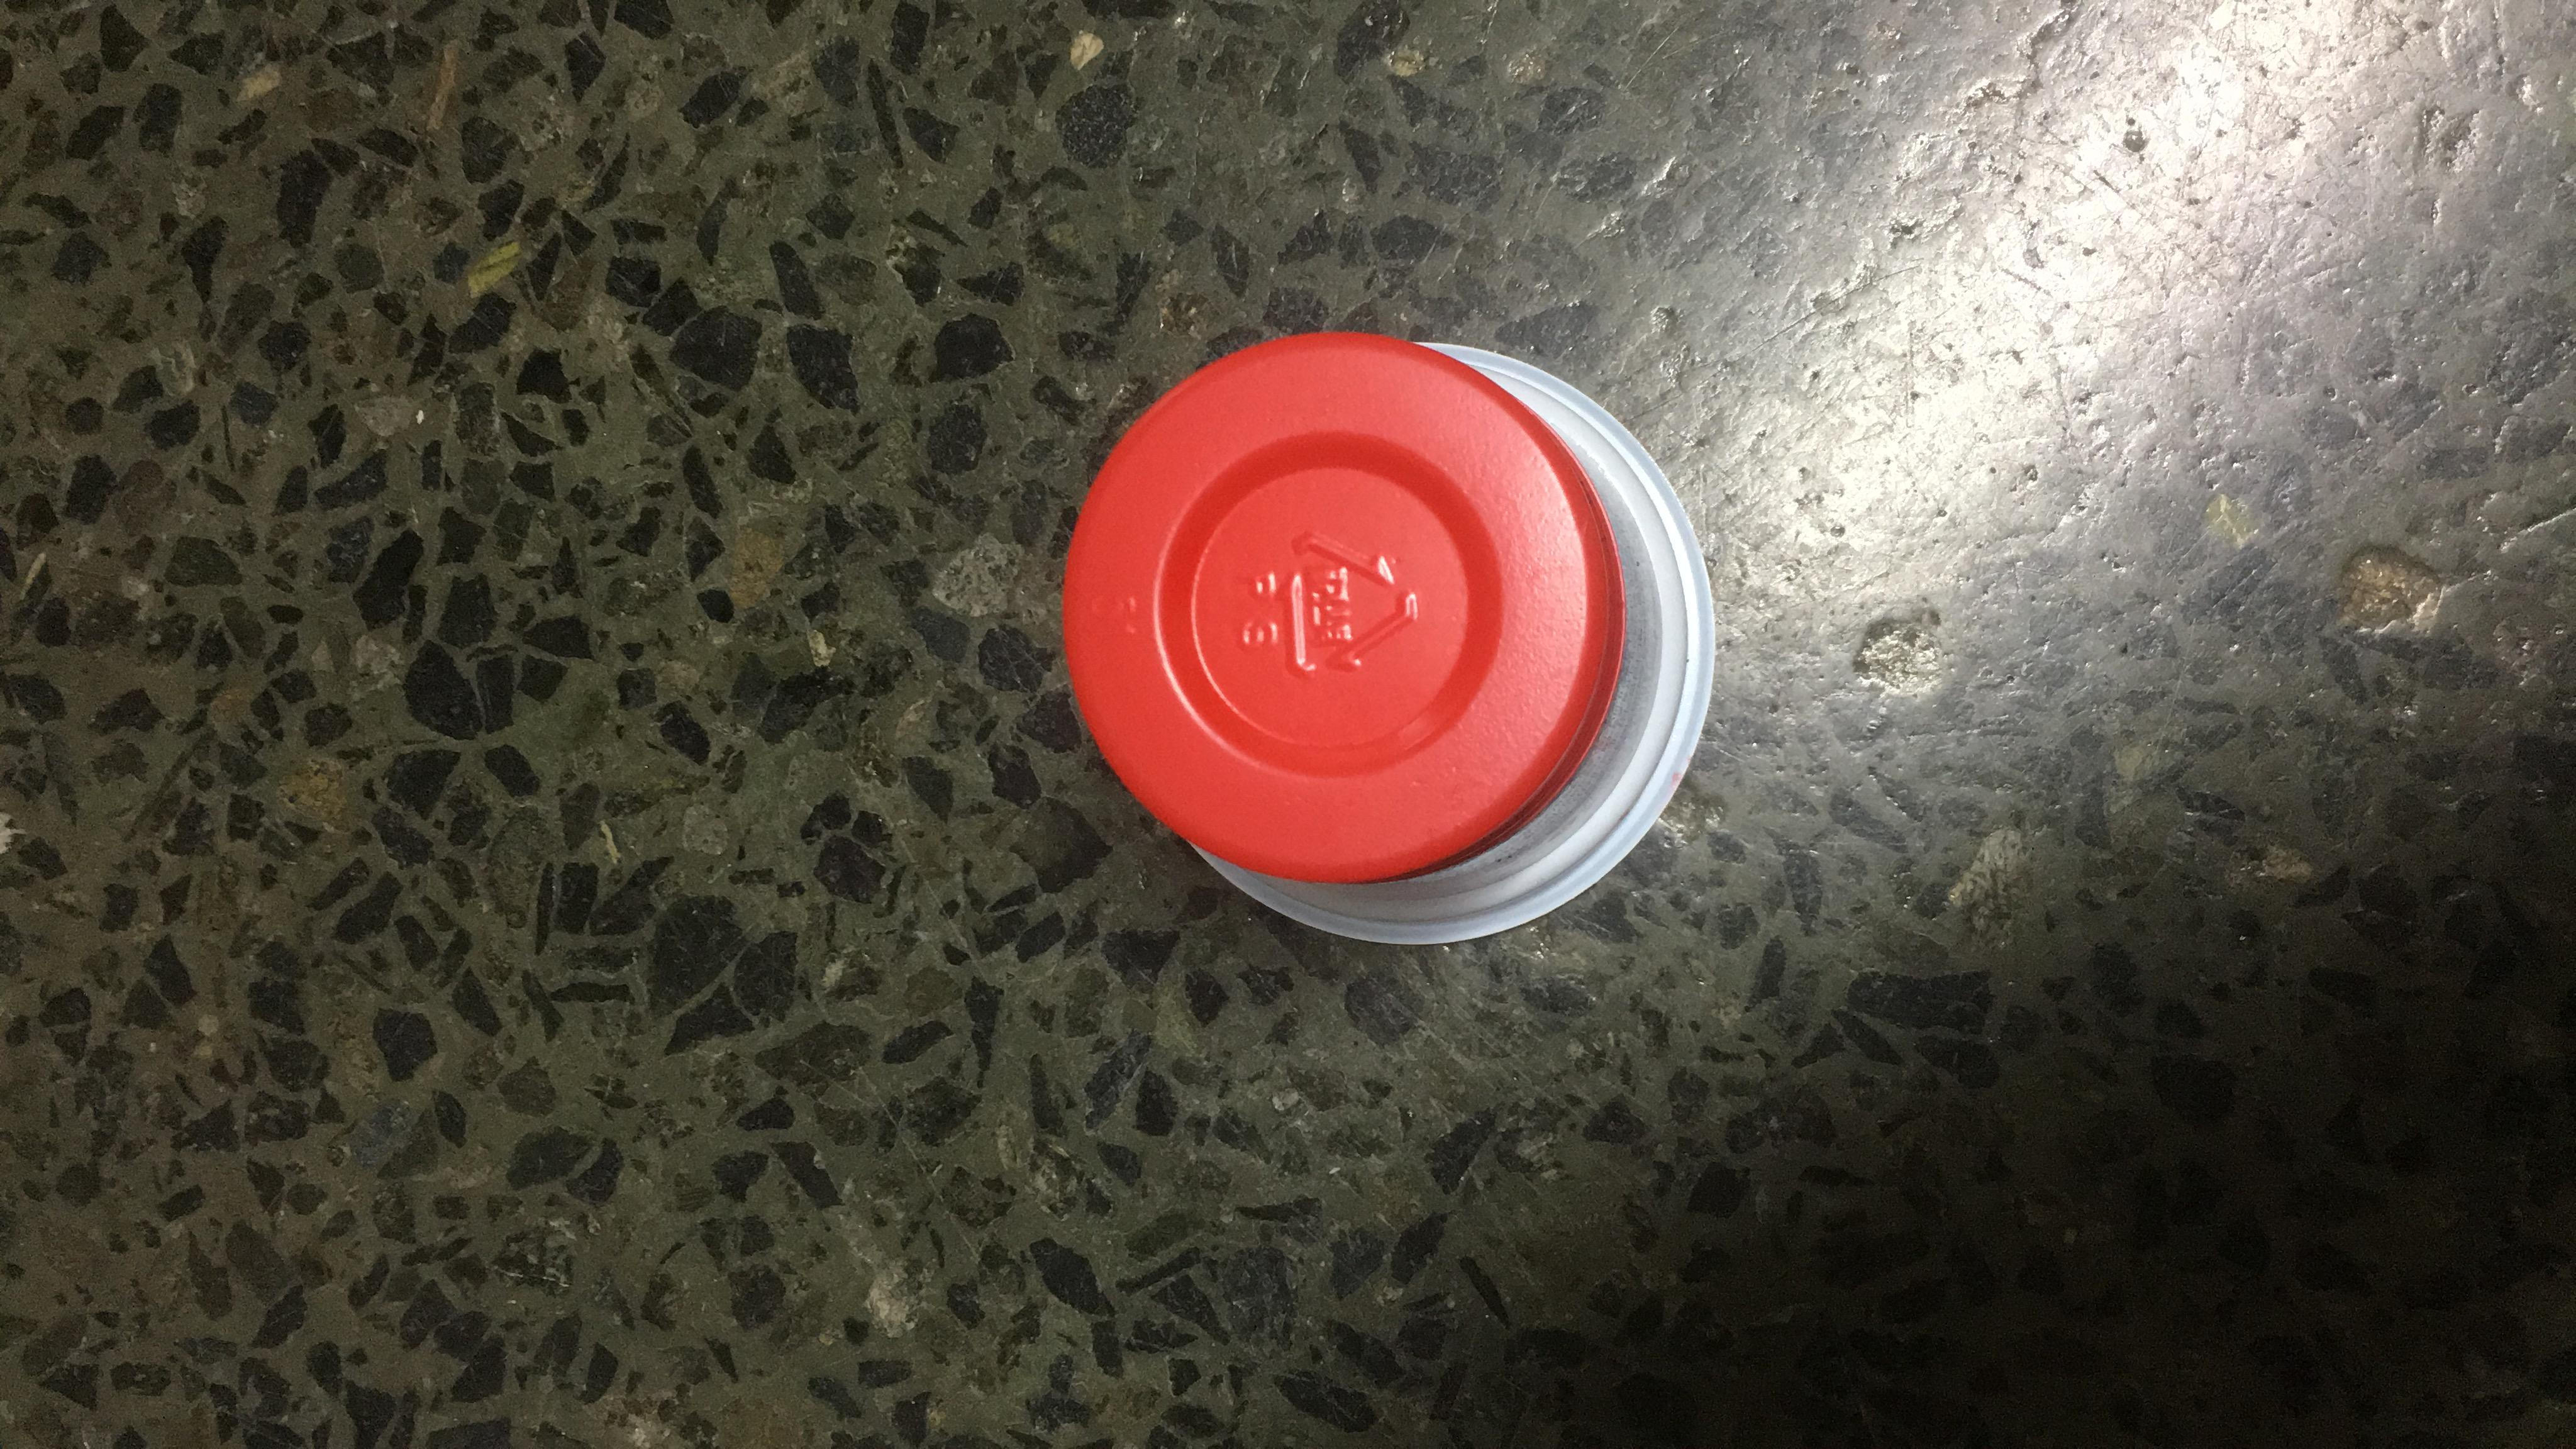bottle: (823, 619, 2035, 916)
